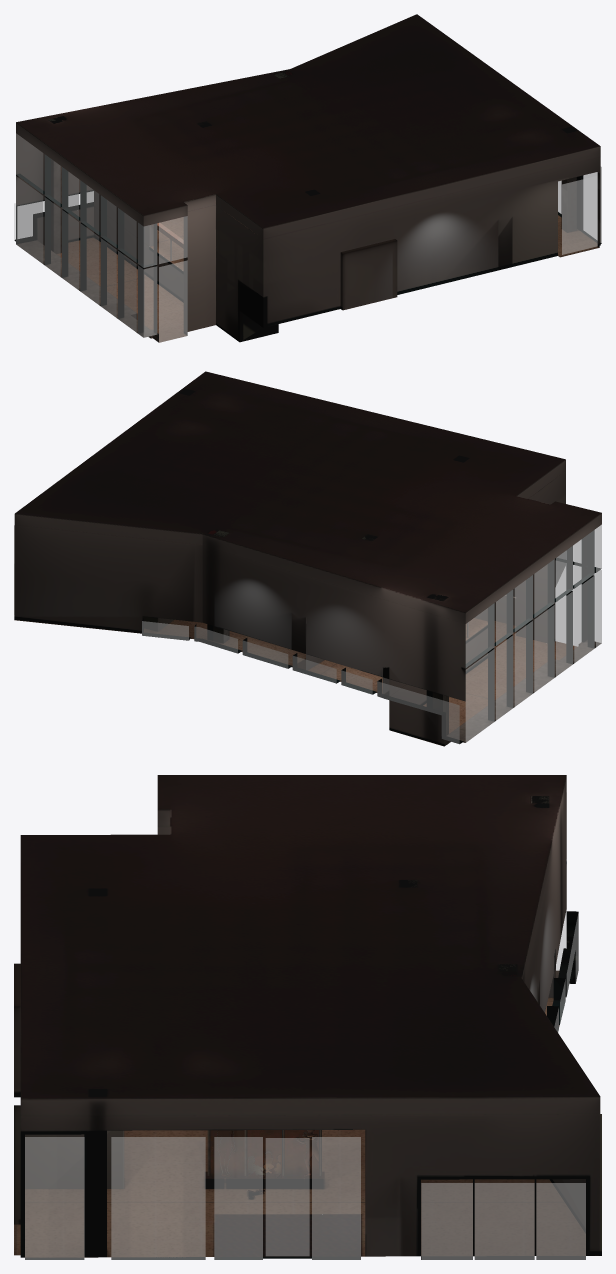
Rendered from exhibition_space.glb.
The picture shows the model from 3 angles, top to bottom: view 1: azimuth 30°, elevation 25°; view 2: azimuth 150°, elevation 25°; view 3: azimuth 270°, elevation 25°; orthographic projection. The views are drawn at different scales.
Visible parts, largest first — view 1: exhibition_exterior_geo, glass_geo, exhibition_interior_geo; view 2: exhibition_exterior_geo, glass_geo, exhibition_interior_geo, pCylinder5; view 3: exhibition_exterior_geo, glass_geo, exhibition_interior_geo, polySurface43, pCylinder5.
Part boxes in pixels (x1,y1,x2,y2): exhibition_exterior_geo: (16, 14, 600, 342); glass_geo: (14, 133, 601, 342); exhibition_interior_geo: (14, 71, 601, 342); exhibition_exterior_geo: (14, 371, 601, 746); glass_geo: (14, 524, 601, 743); exhibition_interior_geo: (14, 530, 601, 746); pCylinder5: (142, 616, 324, 670); exhibition_exterior_geo: (14, 775, 601, 1257); glass_geo: (25, 793, 585, 1259); exhibition_interior_geo: (14, 803, 598, 1259); polySurface43: (204, 1130, 324, 1197); pCylinder5: (25, 987, 537, 1188).
Bounding box in the file's own units: 20 × 6 × 15.27.
7 materials, 5 textured.
